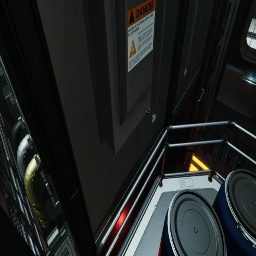SafetySwitchPanel ,: (88, 0, 165, 156)
